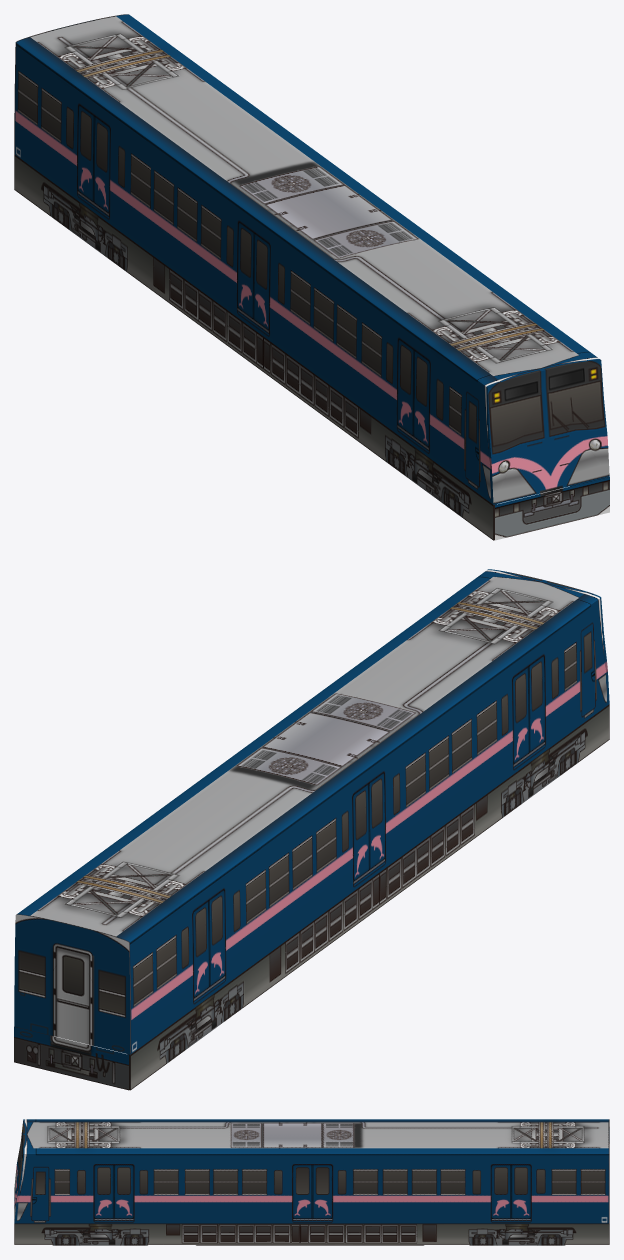
The model's file is car1.glb.
The picture shows the model from 3 angles, top to bottom: view 1: azimuth 30°, elevation 25°; view 2: azimuth 150°, elevation 25°; view 3: azimuth 270°, elevation 25°; orthographic projection. The views are drawn at different scales.
Visible parts, largest first — view 1: car1.glb; view 2: car1.glb; view 3: car1.glb.
Boxes of the visible parts, <box> form: car1.glb: <box>14,14,609,540</box>; car1.glb: <box>14,569,609,1090</box>; car1.glb: <box>14,1119,609,1245</box>.
Bounding box in the file's own units: 2.8 × 3.47 × 20.03.
Materials: 10 (9 with a texture image).
